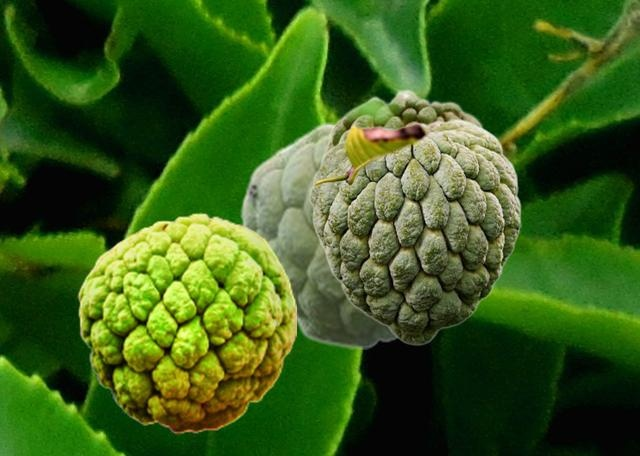atis: (77, 212, 295, 433), (308, 118, 520, 344), (239, 122, 401, 348), (319, 88, 484, 162)
